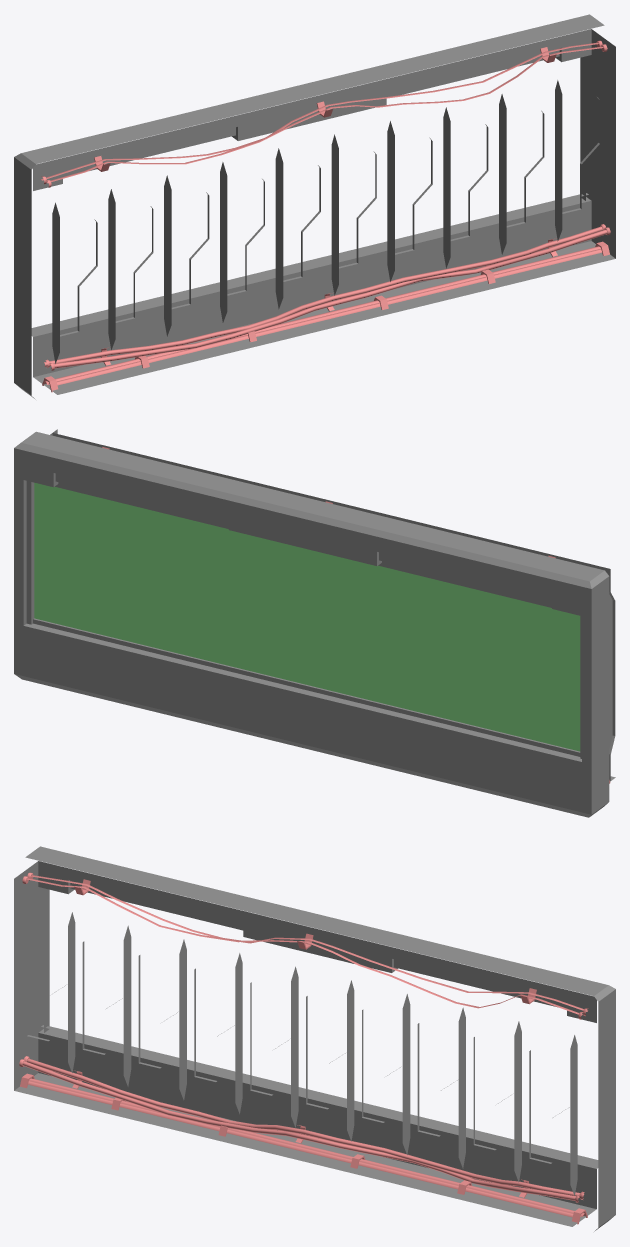
Rendered from S_Envi_Umeda_Servers_01a.gltf.
The picture shows the model from 3 angles, top to bottom: view 1: azimuth 30°, elevation 25°; view 2: azimuth 150°, elevation 25°; view 3: azimuth 330°, elevation 25°; orthographic projection.
Parts seen in each view (by area): view 1: S_Envi_Umeda_Servers_01a; view 2: S_Envi_Umeda_Servers_01a; view 3: S_Envi_Umeda_Servers_01a.
Boxes of the visible parts, box(x1,y1,x2,y2) form: S_Envi_Umeda_Servers_01a: box(14, 14, 615, 399); S_Envi_Umeda_Servers_01a: box(14, 429, 615, 817); S_Envi_Umeda_Servers_01a: box(14, 846, 615, 1231).
Size of the model in its own units: 6 by 2.35 by 0.6106.
